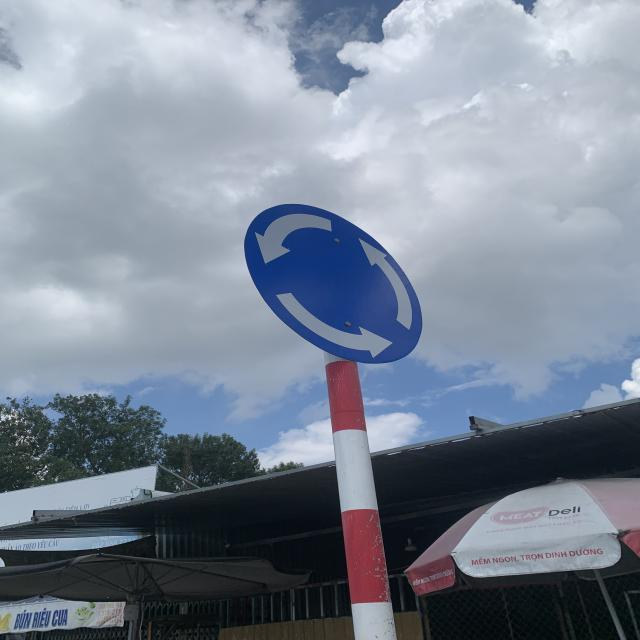Xe_Bus: (243, 186, 422, 366)
